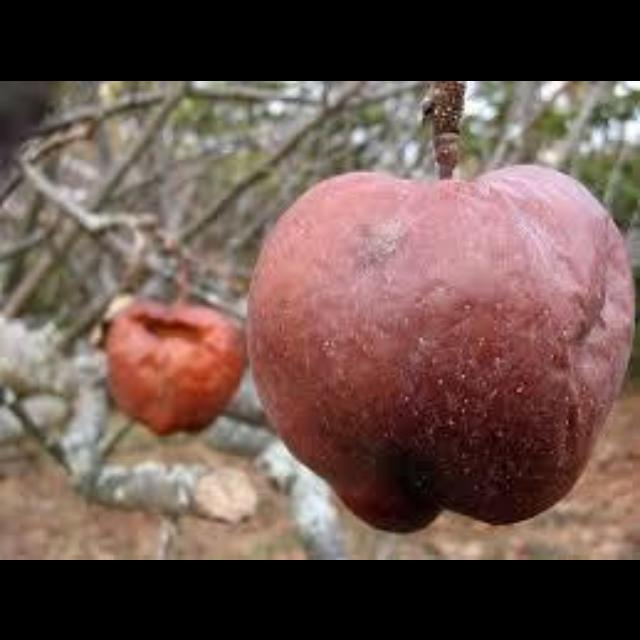apple: (245, 85, 630, 530), (106, 297, 245, 433)
bruise: (544, 224, 626, 413)
rotten: (106, 300, 245, 433)
